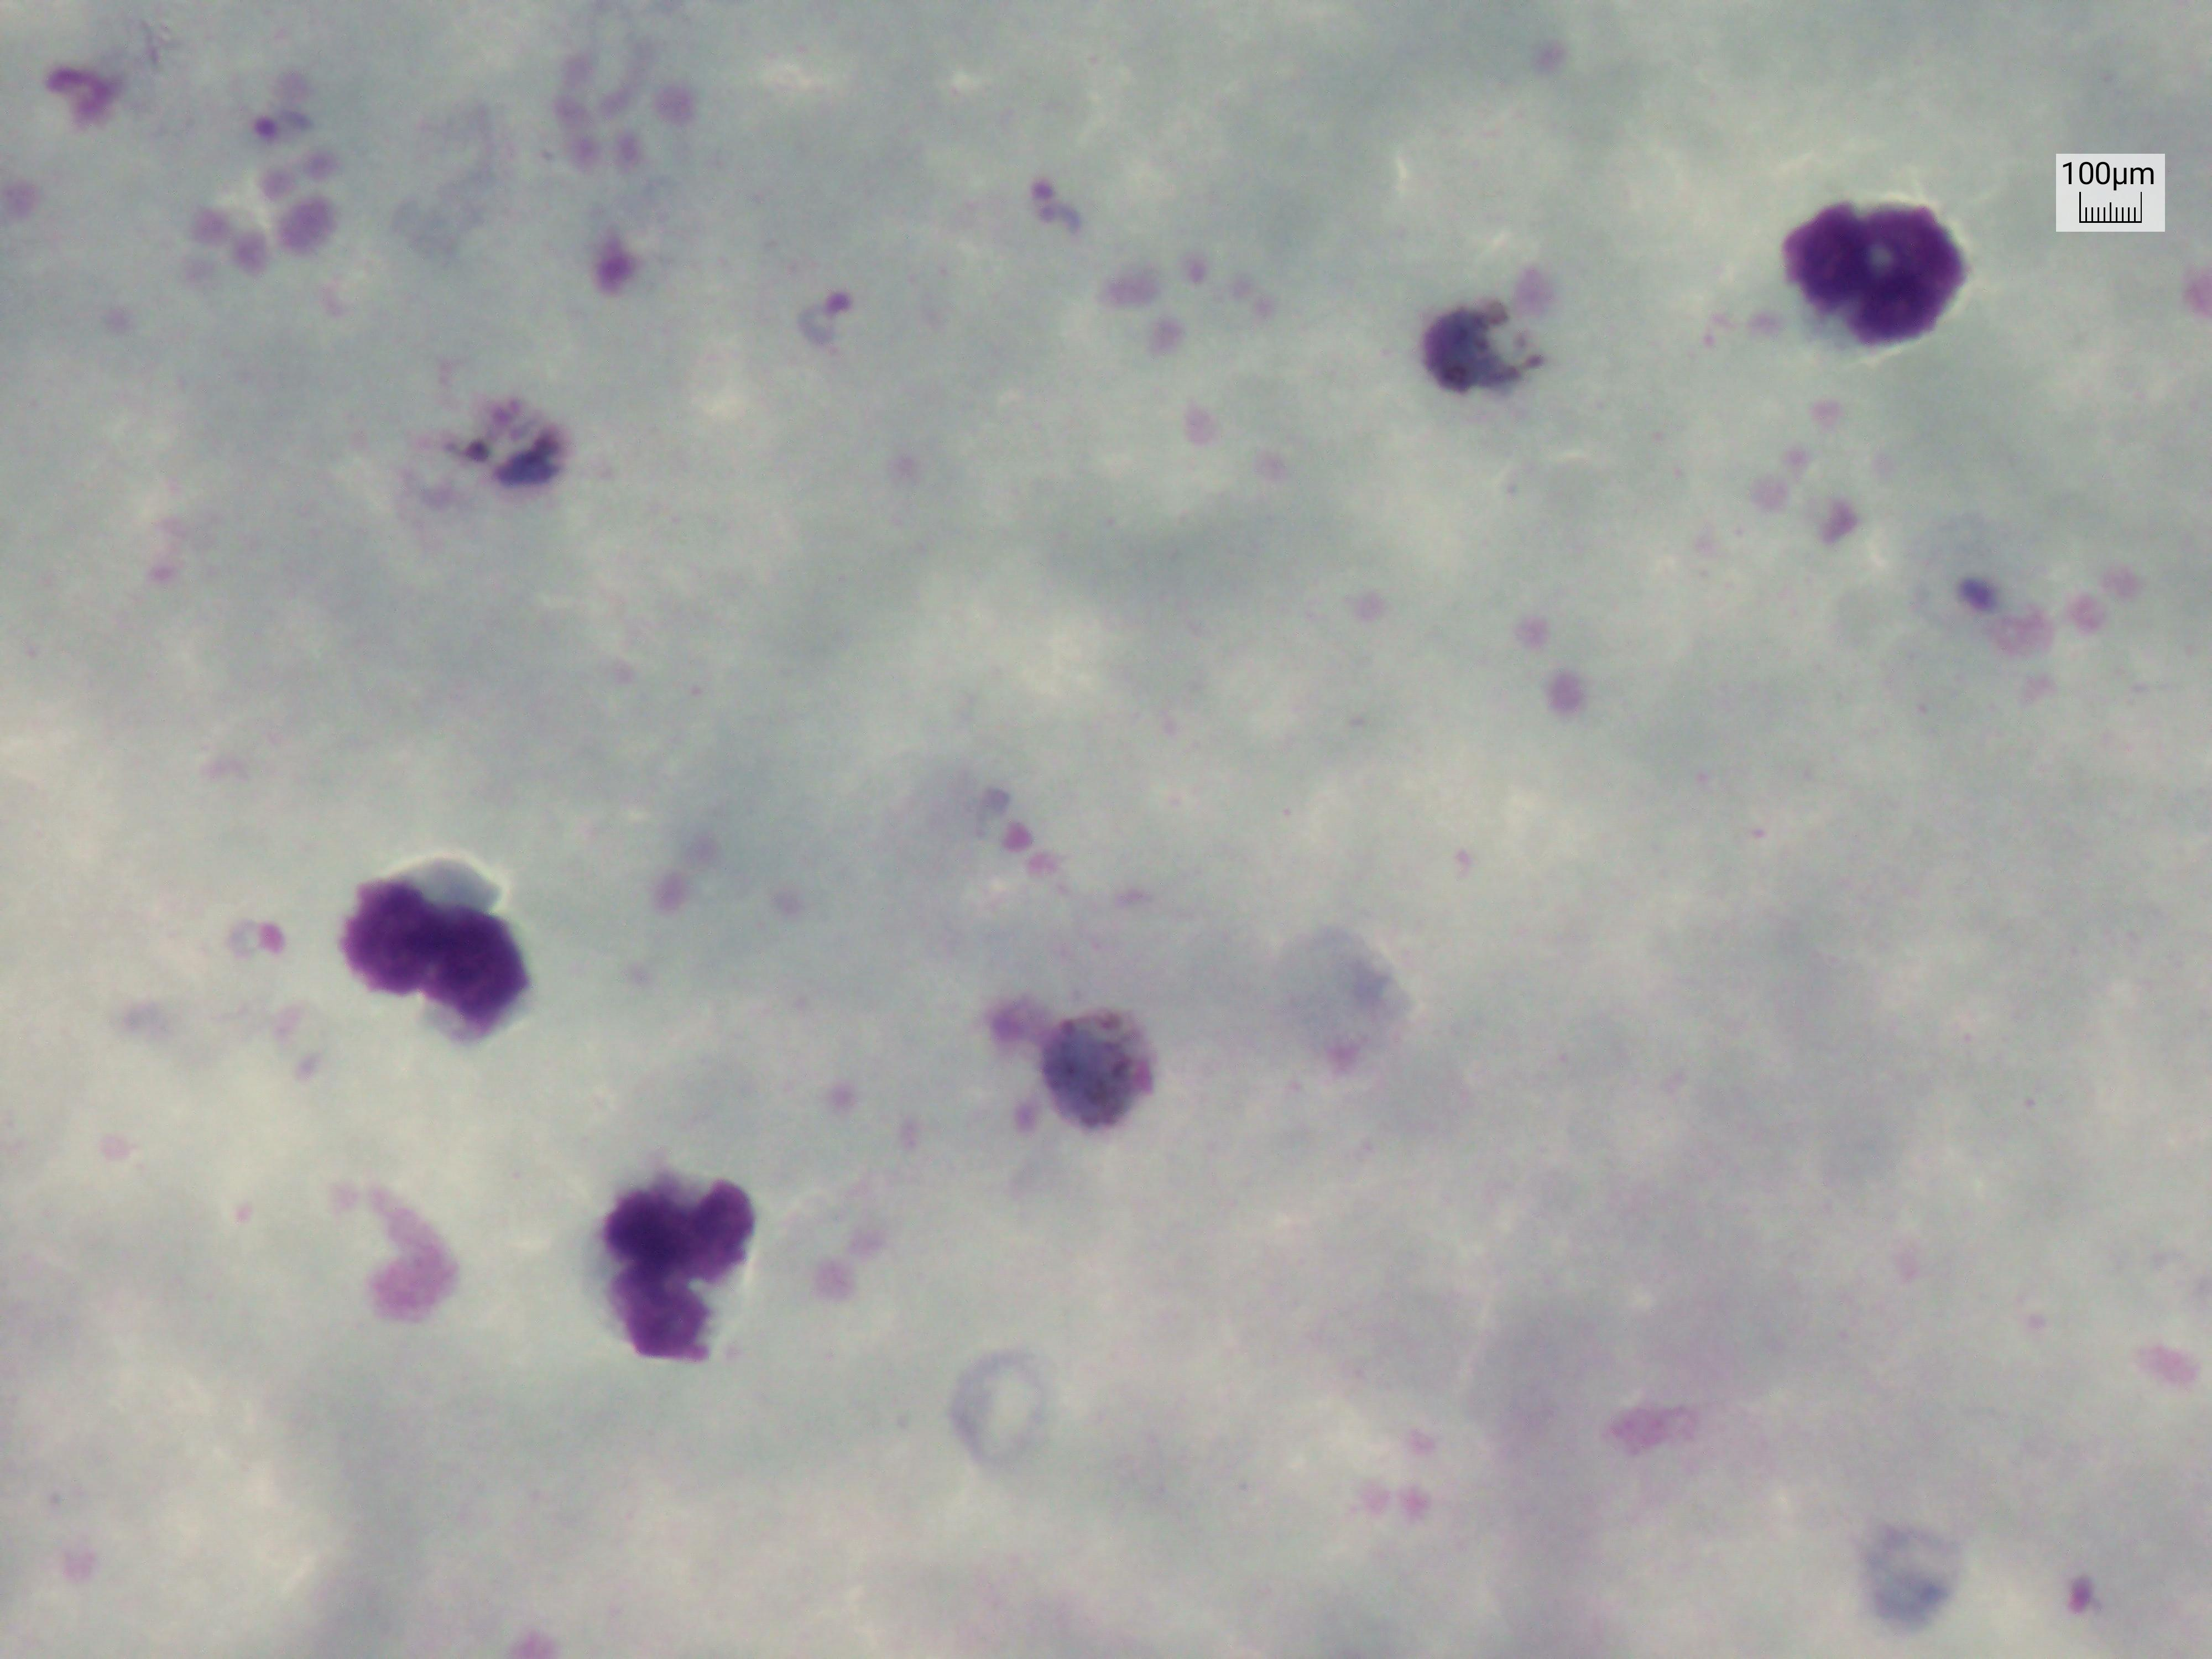p.vivax: (1404, 247, 1573, 434), (1007, 983, 1169, 1168), (418, 371, 587, 518), (998, 127, 1090, 261), (193, 890, 305, 992), (780, 263, 860, 387), (965, 744, 1047, 864), (2055, 1541, 2146, 1649), (232, 80, 326, 141)
